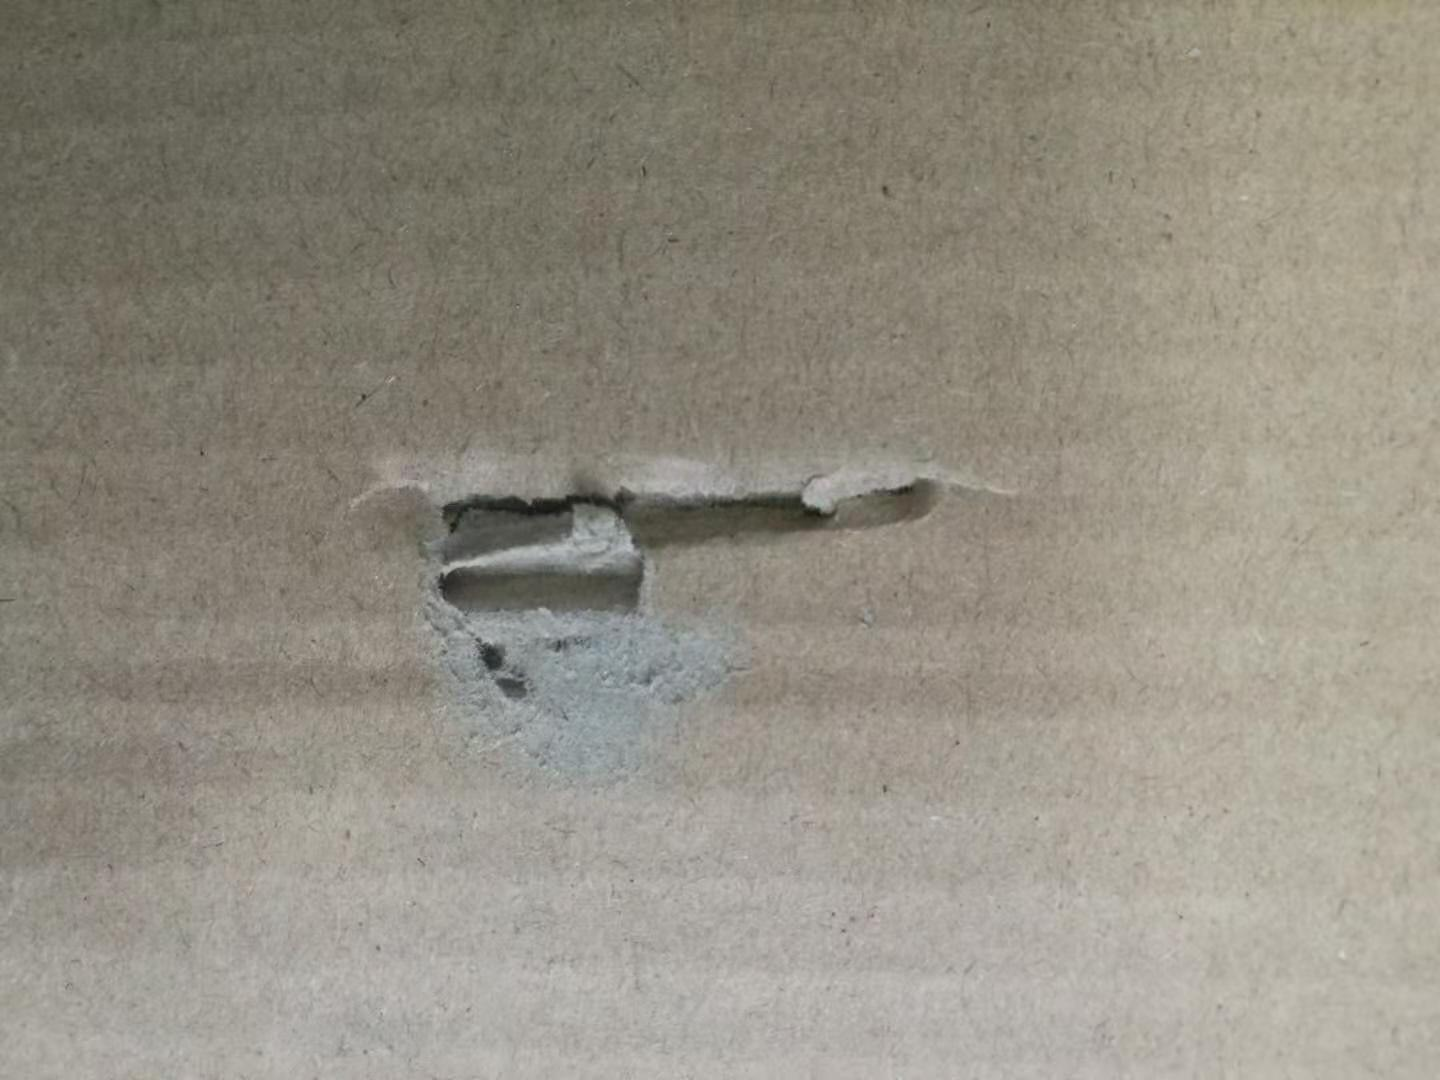defect: (273, 386, 1079, 790)
